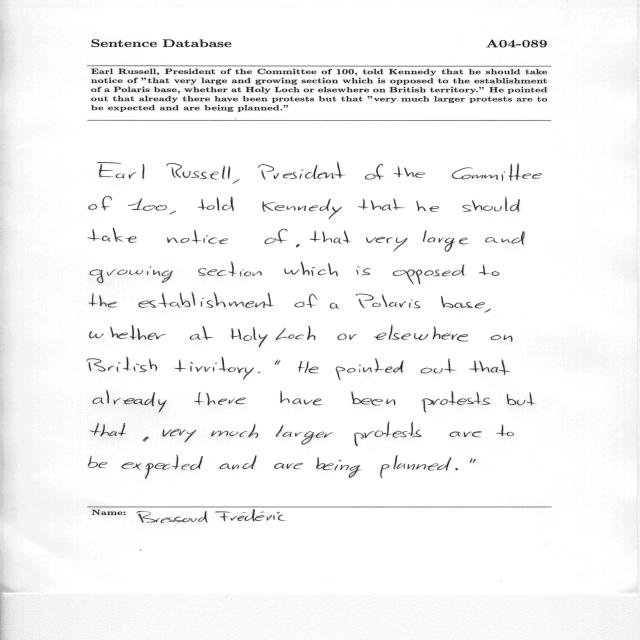word: (138, 292, 274, 308), (122, 455, 203, 479), (174, 357, 254, 380), (93, 390, 167, 413), (380, 455, 452, 478), (354, 422, 422, 446), (452, 164, 542, 182), (374, 325, 469, 342), (263, 199, 343, 219), (258, 162, 346, 180), (336, 358, 404, 380), (393, 265, 465, 285), (422, 391, 490, 412), (90, 266, 173, 283), (90, 325, 166, 340), (276, 425, 333, 445), (167, 163, 231, 180), (87, 357, 157, 372), (423, 230, 468, 252), (198, 262, 262, 277), (356, 294, 420, 309), (316, 457, 361, 478), (462, 197, 520, 212), (167, 230, 228, 244), (98, 162, 144, 179), (284, 262, 338, 276), (231, 327, 268, 347), (88, 228, 137, 243), (212, 424, 259, 439), (194, 392, 246, 405), (351, 391, 395, 406), (280, 391, 323, 406), (366, 237, 408, 252), (469, 360, 510, 375), (309, 230, 351, 244), (485, 231, 525, 245), (276, 326, 316, 340), (197, 197, 234, 212), (220, 455, 257, 470), (358, 199, 404, 211), (441, 296, 485, 308), (421, 359, 456, 374), (128, 198, 167, 211), (90, 423, 126, 436), (163, 429, 197, 442), (89, 294, 117, 308), (393, 166, 425, 178), (507, 393, 535, 406), (89, 196, 112, 211), (265, 229, 288, 244), (190, 326, 213, 340), (295, 294, 317, 308), (365, 164, 384, 180), (417, 201, 440, 212), (298, 361, 319, 373), (479, 264, 499, 276), (88, 456, 107, 468), (496, 425, 514, 436), (450, 431, 482, 437), (274, 463, 303, 469), (491, 335, 513, 342), (337, 333, 357, 340), (356, 267, 371, 276), (330, 303, 339, 309), (143, 436, 149, 442), (233, 179, 240, 184), (484, 308, 491, 313), (275, 359, 280, 365), (470, 459, 476, 464), (169, 211, 176, 215), (296, 244, 300, 248), (456, 468, 459, 470), (258, 372, 260, 373)
